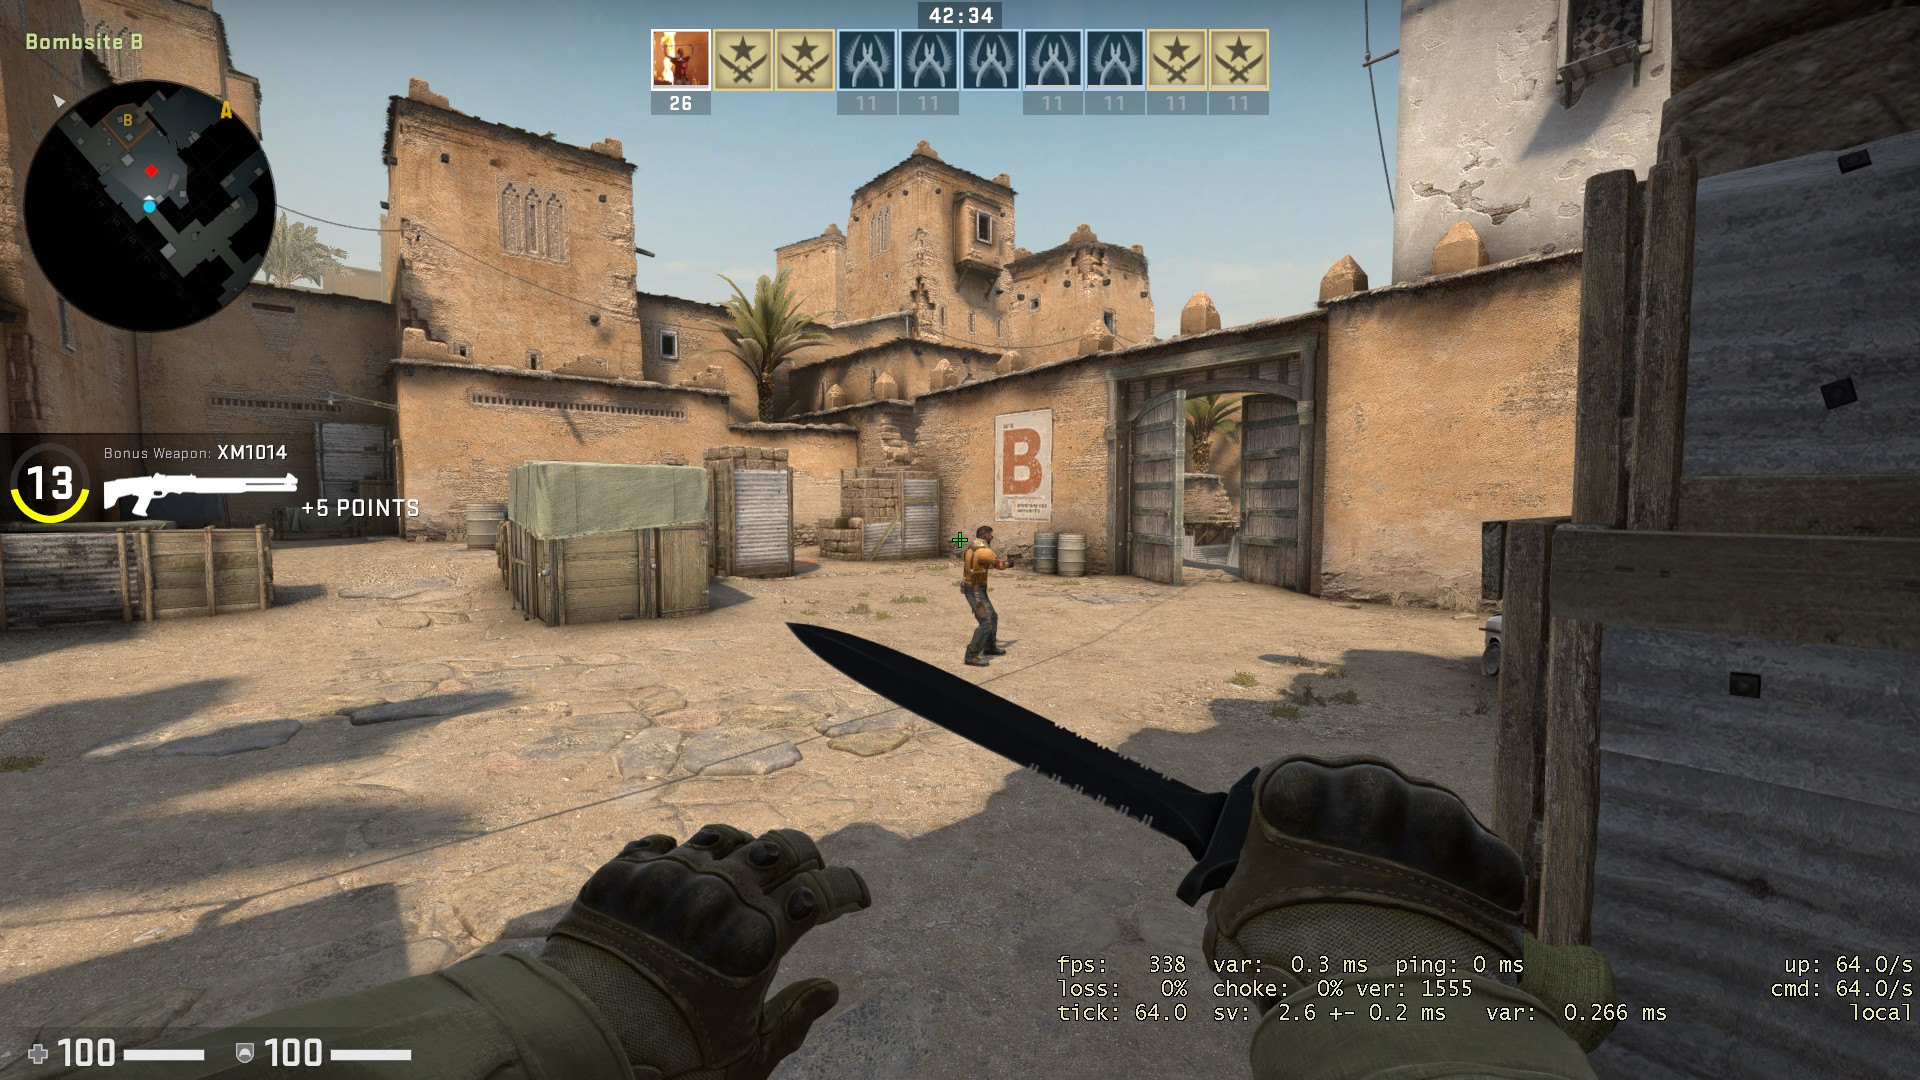player: (955, 524, 1024, 669)
